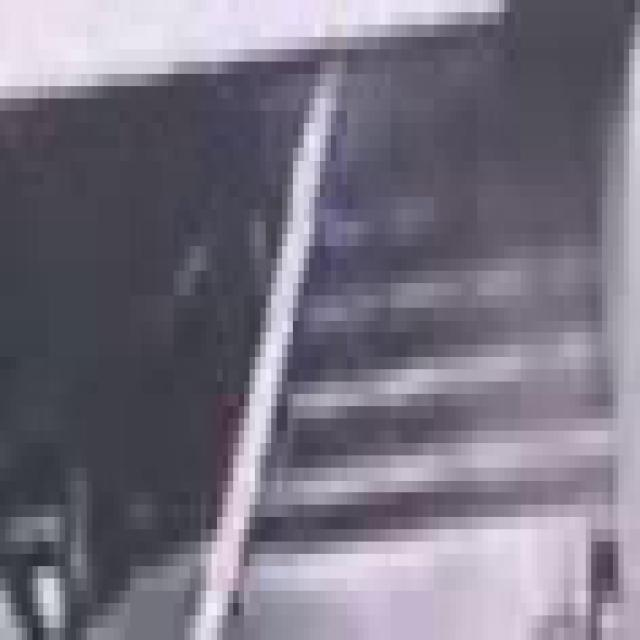stick: (179, 37, 358, 640)
